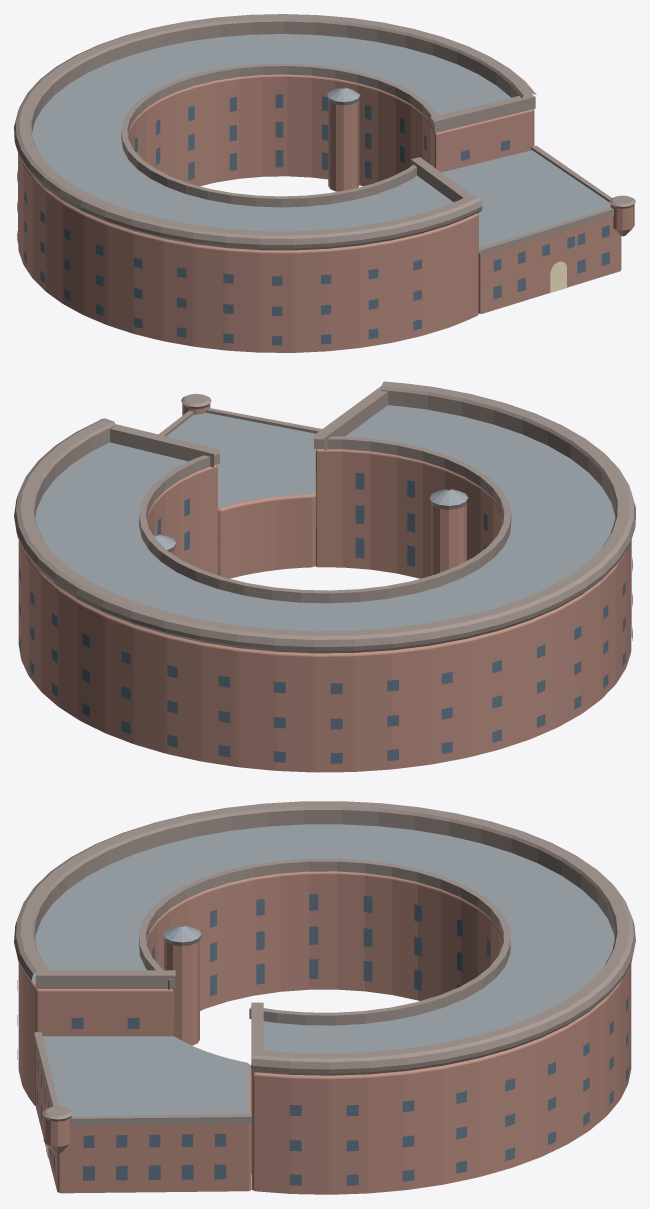
The model's file is nyc-castle-williams.glb.
The picture shows the model from 3 angles, top to bottom: view 1: azimuth 30°, elevation 25°; view 2: azimuth 150°, elevation 25°; view 3: azimuth 270°, elevation 25°; orthographic projection. The views are drawn at different scales.
Visible parts, largest first — view 1: Castle Williams; view 2: Castle Williams; view 3: Castle Williams.
Boxes of the visible parts, <box> form: Castle Williams: <box>14,14,635,352</box>; Castle Williams: <box>14,381,635,772</box>; Castle Williams: <box>14,801,635,1194</box>.
Size of the model in its own units: 63.2 by 15 by 62.47.
